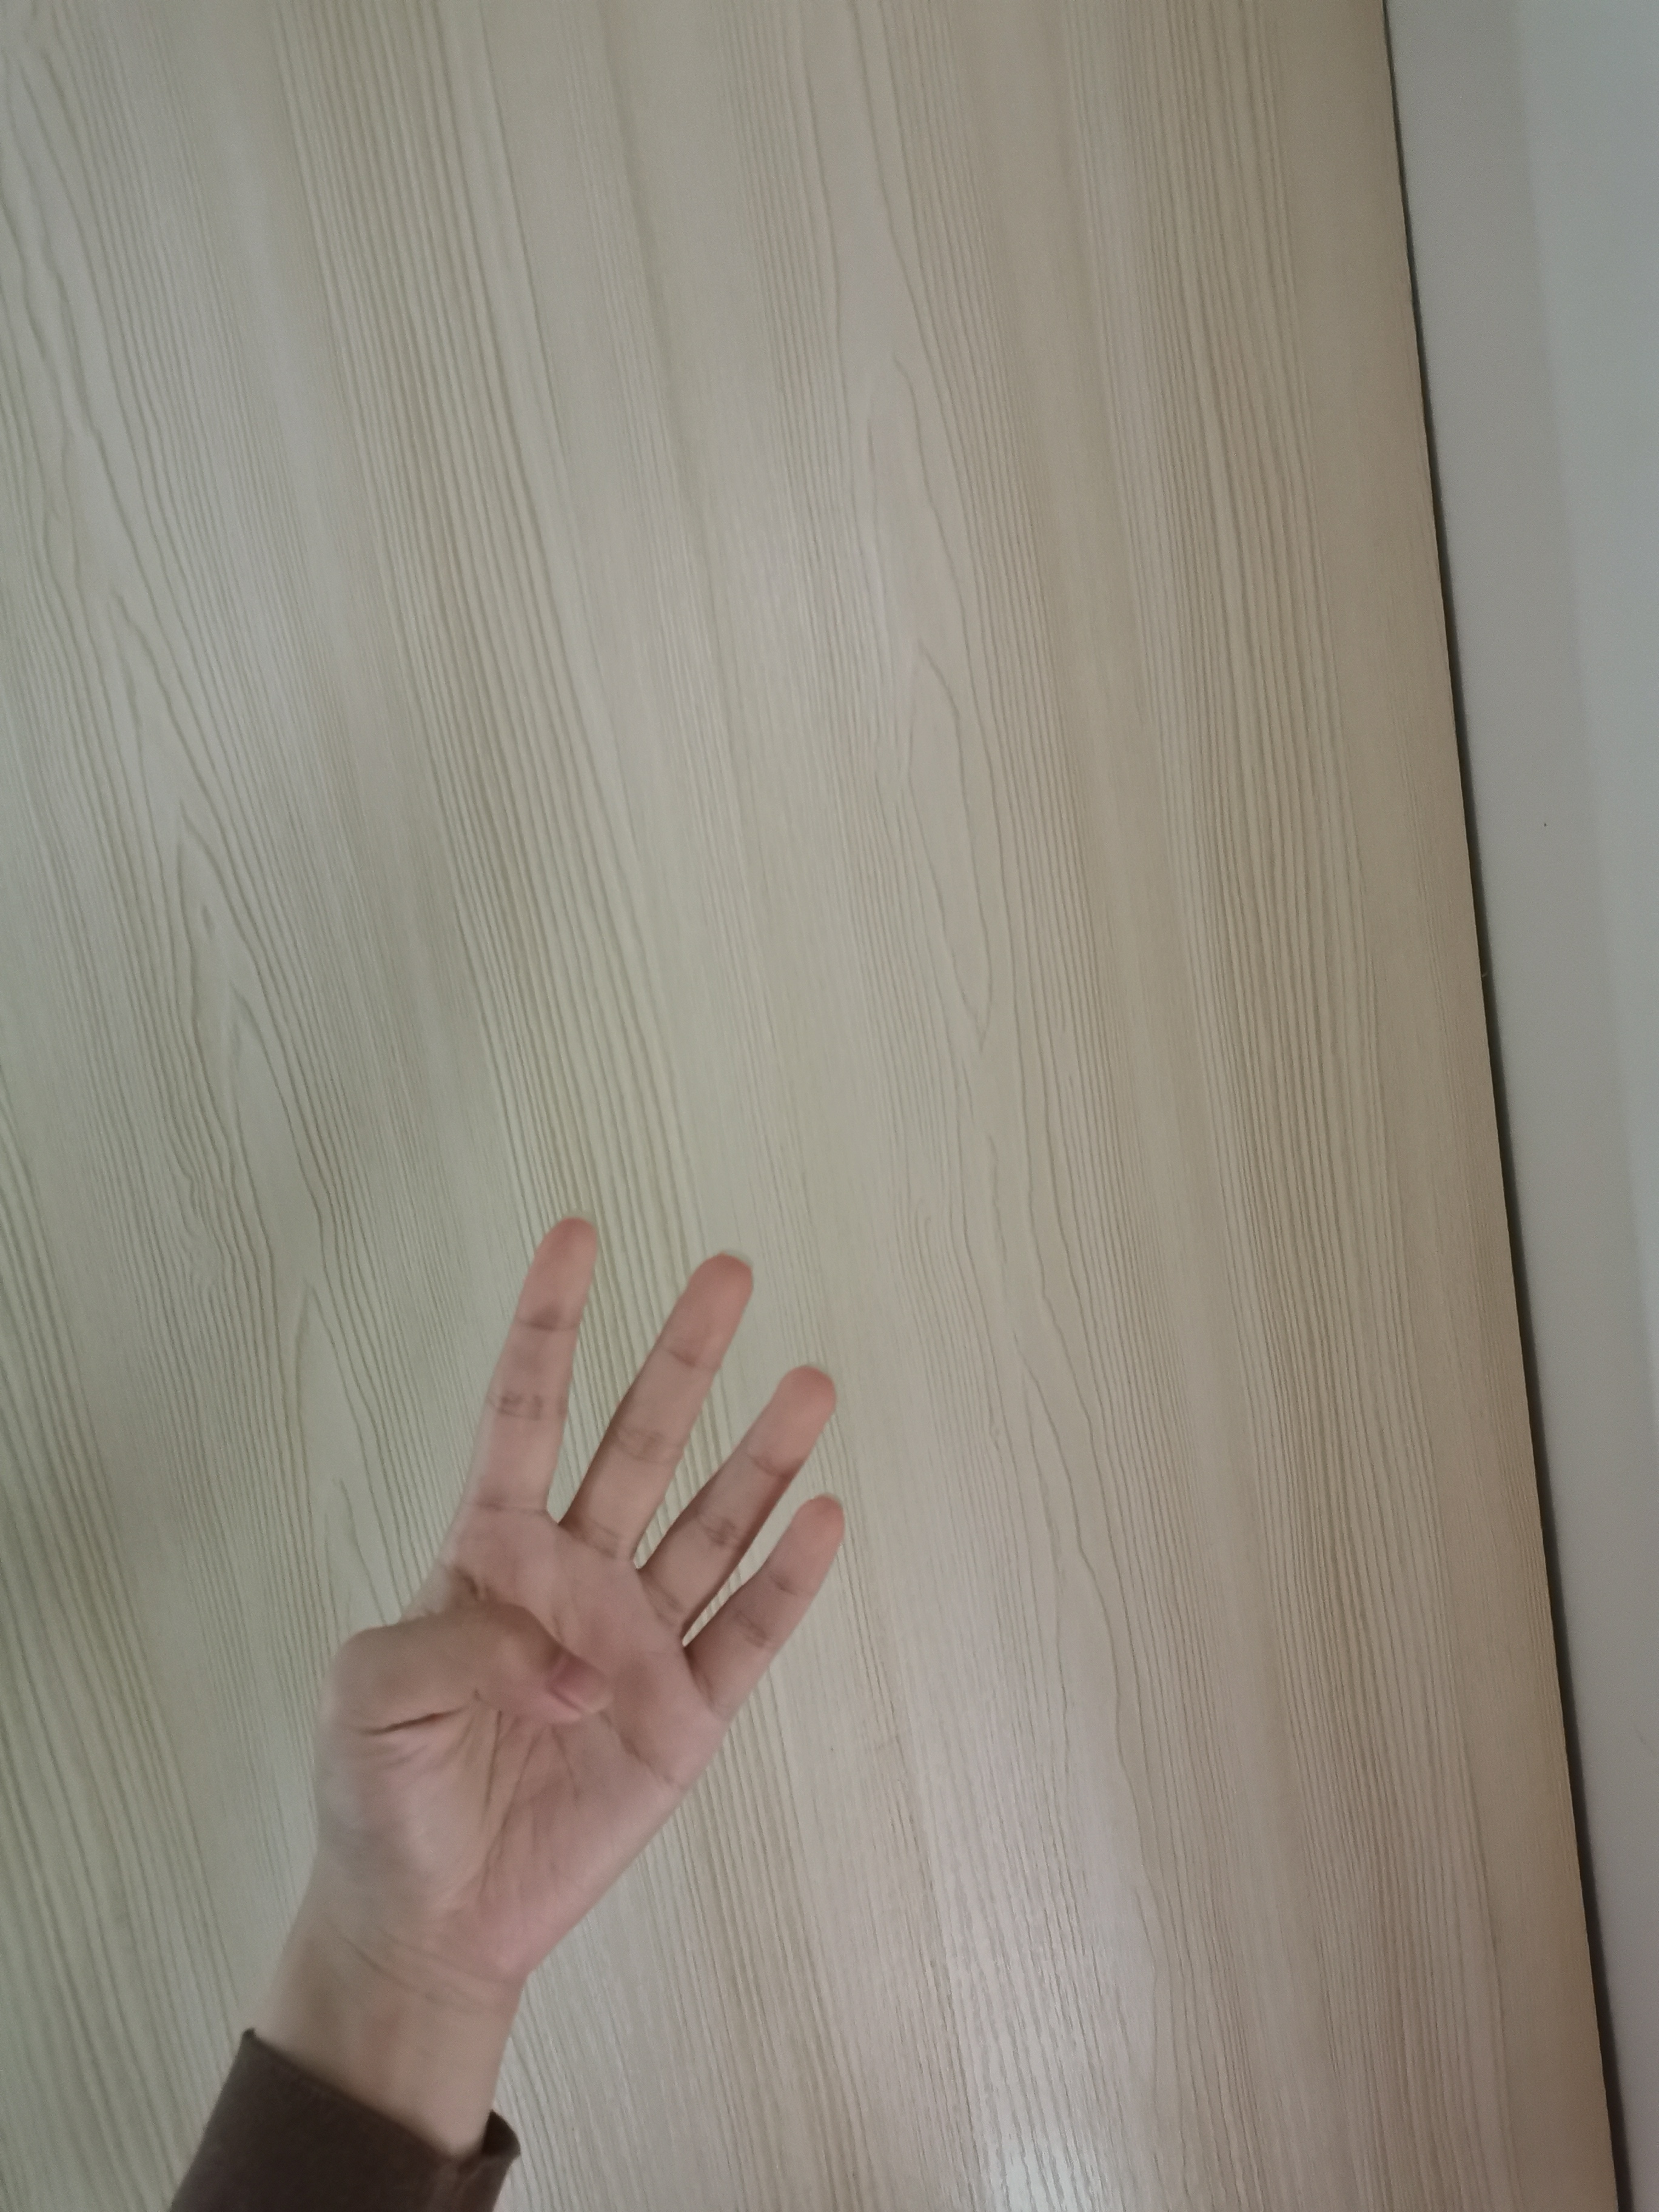right: (288, 1207, 857, 1970)
